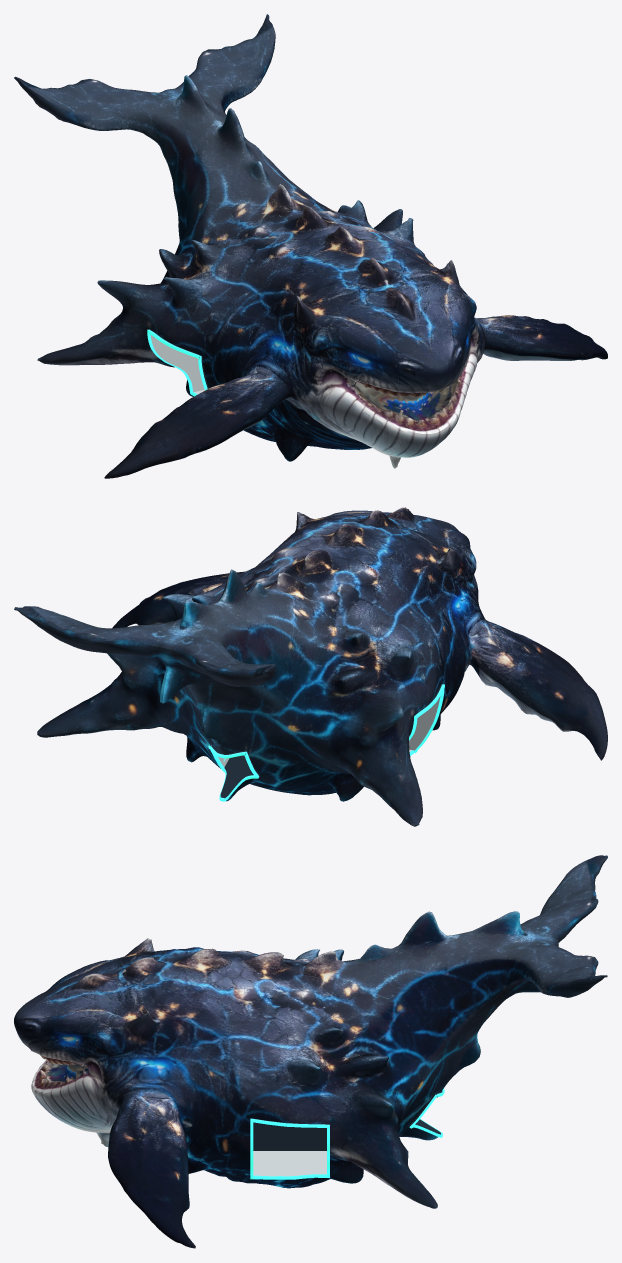
File: Space Monster Whale doors.glb
3 views of the same model, one above another, from view 1: azimuth 30°, elevation 25°; view 2: azimuth 150°, elevation 25°; view 3: azimuth 270°, elevation 25° (orthographic).
Parts seen in each view (by area): view 1: Mesh0; view 2: Mesh0; view 3: Mesh0.
Boxes of the visible parts, x1,y1,x2,y2 form: Mesh0: (14, 14, 607, 478); Mesh0: (14, 507, 607, 826); Mesh0: (14, 855, 607, 1248).
Bounding box in the file's own units: 1.81 × 0.9227 × 1.9.
Materials: 5 (1 with a texture image).
